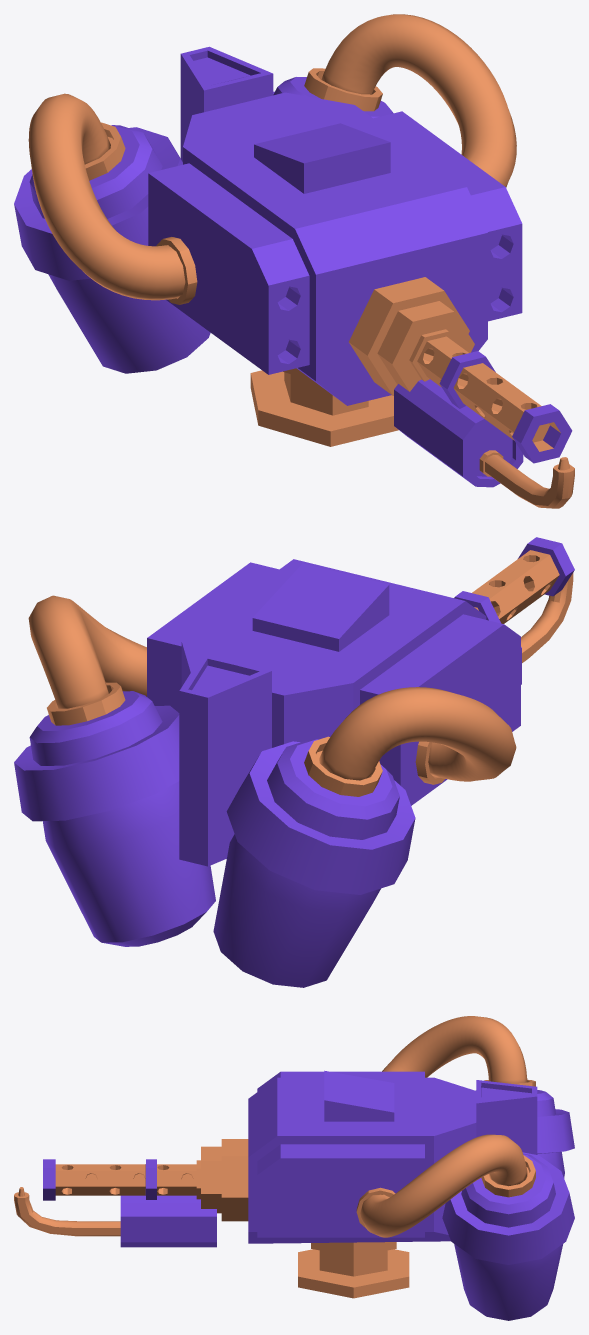
Rendered from Flamethrower Turret FBX.fbx.
The picture shows the model from 3 angles, top to bottom: view 1: azimuth 30°, elevation 25°; view 2: azimuth 150°, elevation 25°; view 3: azimuth 270°, elevation 25°; orthographic projection. The views are drawn at different scales.
Parts seen in each view (by area): view 1: Flamethrower Body, Gas Pipes, Gas Canister, Barrel Base, Flamethrower Pillar, Flame Barrel, Lighter Fluid Container, Gas Canister Rings, Flamethrower Lighter, Canister Ring; view 2: Gas Canister, Flamethrower Body, Gas Pipes, Flame Barrel, Gas Canister Rings, Flamethrower Lighter, Canister Ring; view 3: Flamethrower Body, Gas Canister, Gas Pipes, Flamethrower Pillar, Lighter Fluid Container, Flame Barrel, Barrel Base, Flamethrower Lighter, Gas Canister Rings, Canister Ring.
Part boxes in pixels (<box>): Flamethrower Body: <box>148,46,522,405</box>; Gas Pipes: <box>28,14,516,300</box>; Gas Canister: <box>14,77,393,373</box>; Barrel Base: <box>349,277,474,395</box>; Flamethrower Pillar: <box>250,368,398,446</box>; Flame Barrel: <box>417,336,572,463</box>; Lighter Fluid Container: <box>394,379,523,487</box>; Gas Canister Rings: <box>85,68,382,304</box>; Flamethrower Lighter: <box>479,450,574,508</box>; Canister Ring: <box>439,351,495,408</box>; Gas Canister: <box>14,691,415,987</box>; Flamethrower Body: <box>147,559,520,866</box>; Gas Pipes: <box>28,595,516,781</box>; Flame Barrel: <box>472,537,574,623</box>; Gas Canister Rings: <box>47,682,444,796</box>; Flamethrower Lighter: <box>521,573,573,662</box>; Canister Ring: <box>454,591,501,623</box>; Flamethrower Body: <box>248,1070,537,1243</box>; Gas Canister: <box>442,1090,574,1320</box>; Gas Pipes: <box>360,1016,527,1237</box>; Flamethrower Pillar: <box>298,1242,409,1298</box>; Lighter Fluid Container: <box>120,1195,216,1247</box>; Flame Barrel: <box>43,1159,196,1200</box>; Barrel Base: <box>196,1139,248,1221</box>; Flamethrower Lighter: <box>14,1187,120,1236</box>; Gas Canister Rings: <box>356,1079,535,1228</box>; Canister Ring: <box>145,1159,156,1199</box>.
Size of the model in its own units: 169 by 105 by 257.
